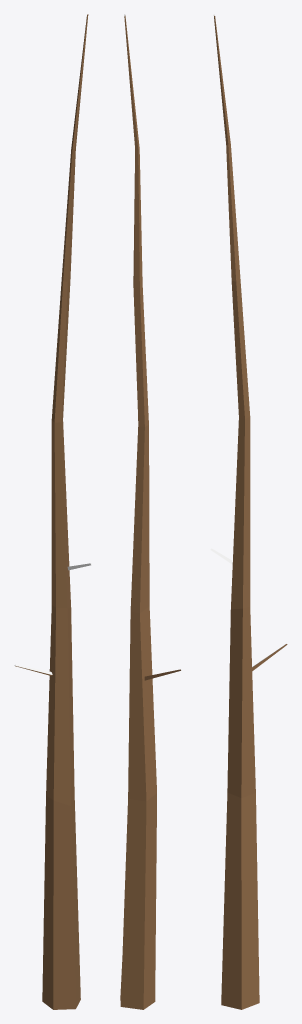
File: Pine_Tree_NoLeaves_l_Snow_04_LOD.fbx
The picture shows the model from 3 angles, left to right: view 1: azimuth 90°, elevation 25°; view 2: azimuth 210°, elevation 25°; view 3: azimuth 270°, elevation 25°; orthographic projection.
Parts seen in each view (by area): view 1: Pine_Tree_NoLeaves_l_Snow_04_LOD0; view 2: Pine_Tree_NoLeaves_l_Snow_04_LOD0; view 3: Pine_Tree_NoLeaves_l_Snow_04_LOD0.
Boxes of the visible parts, left/top/right/bottom form: Pine_Tree_NoLeaves_l_Snow_04_LOD0: left=14, top=14, right=91, bottom=1009; Pine_Tree_NoLeaves_l_Snow_04_LOD0: left=120, top=14, right=181, bottom=1009; Pine_Tree_NoLeaves_l_Snow_04_LOD0: left=210, top=14, right=287, bottom=1009.
Size of what is drawn, in the model's own units: 77.14 by 1861 by 132.
